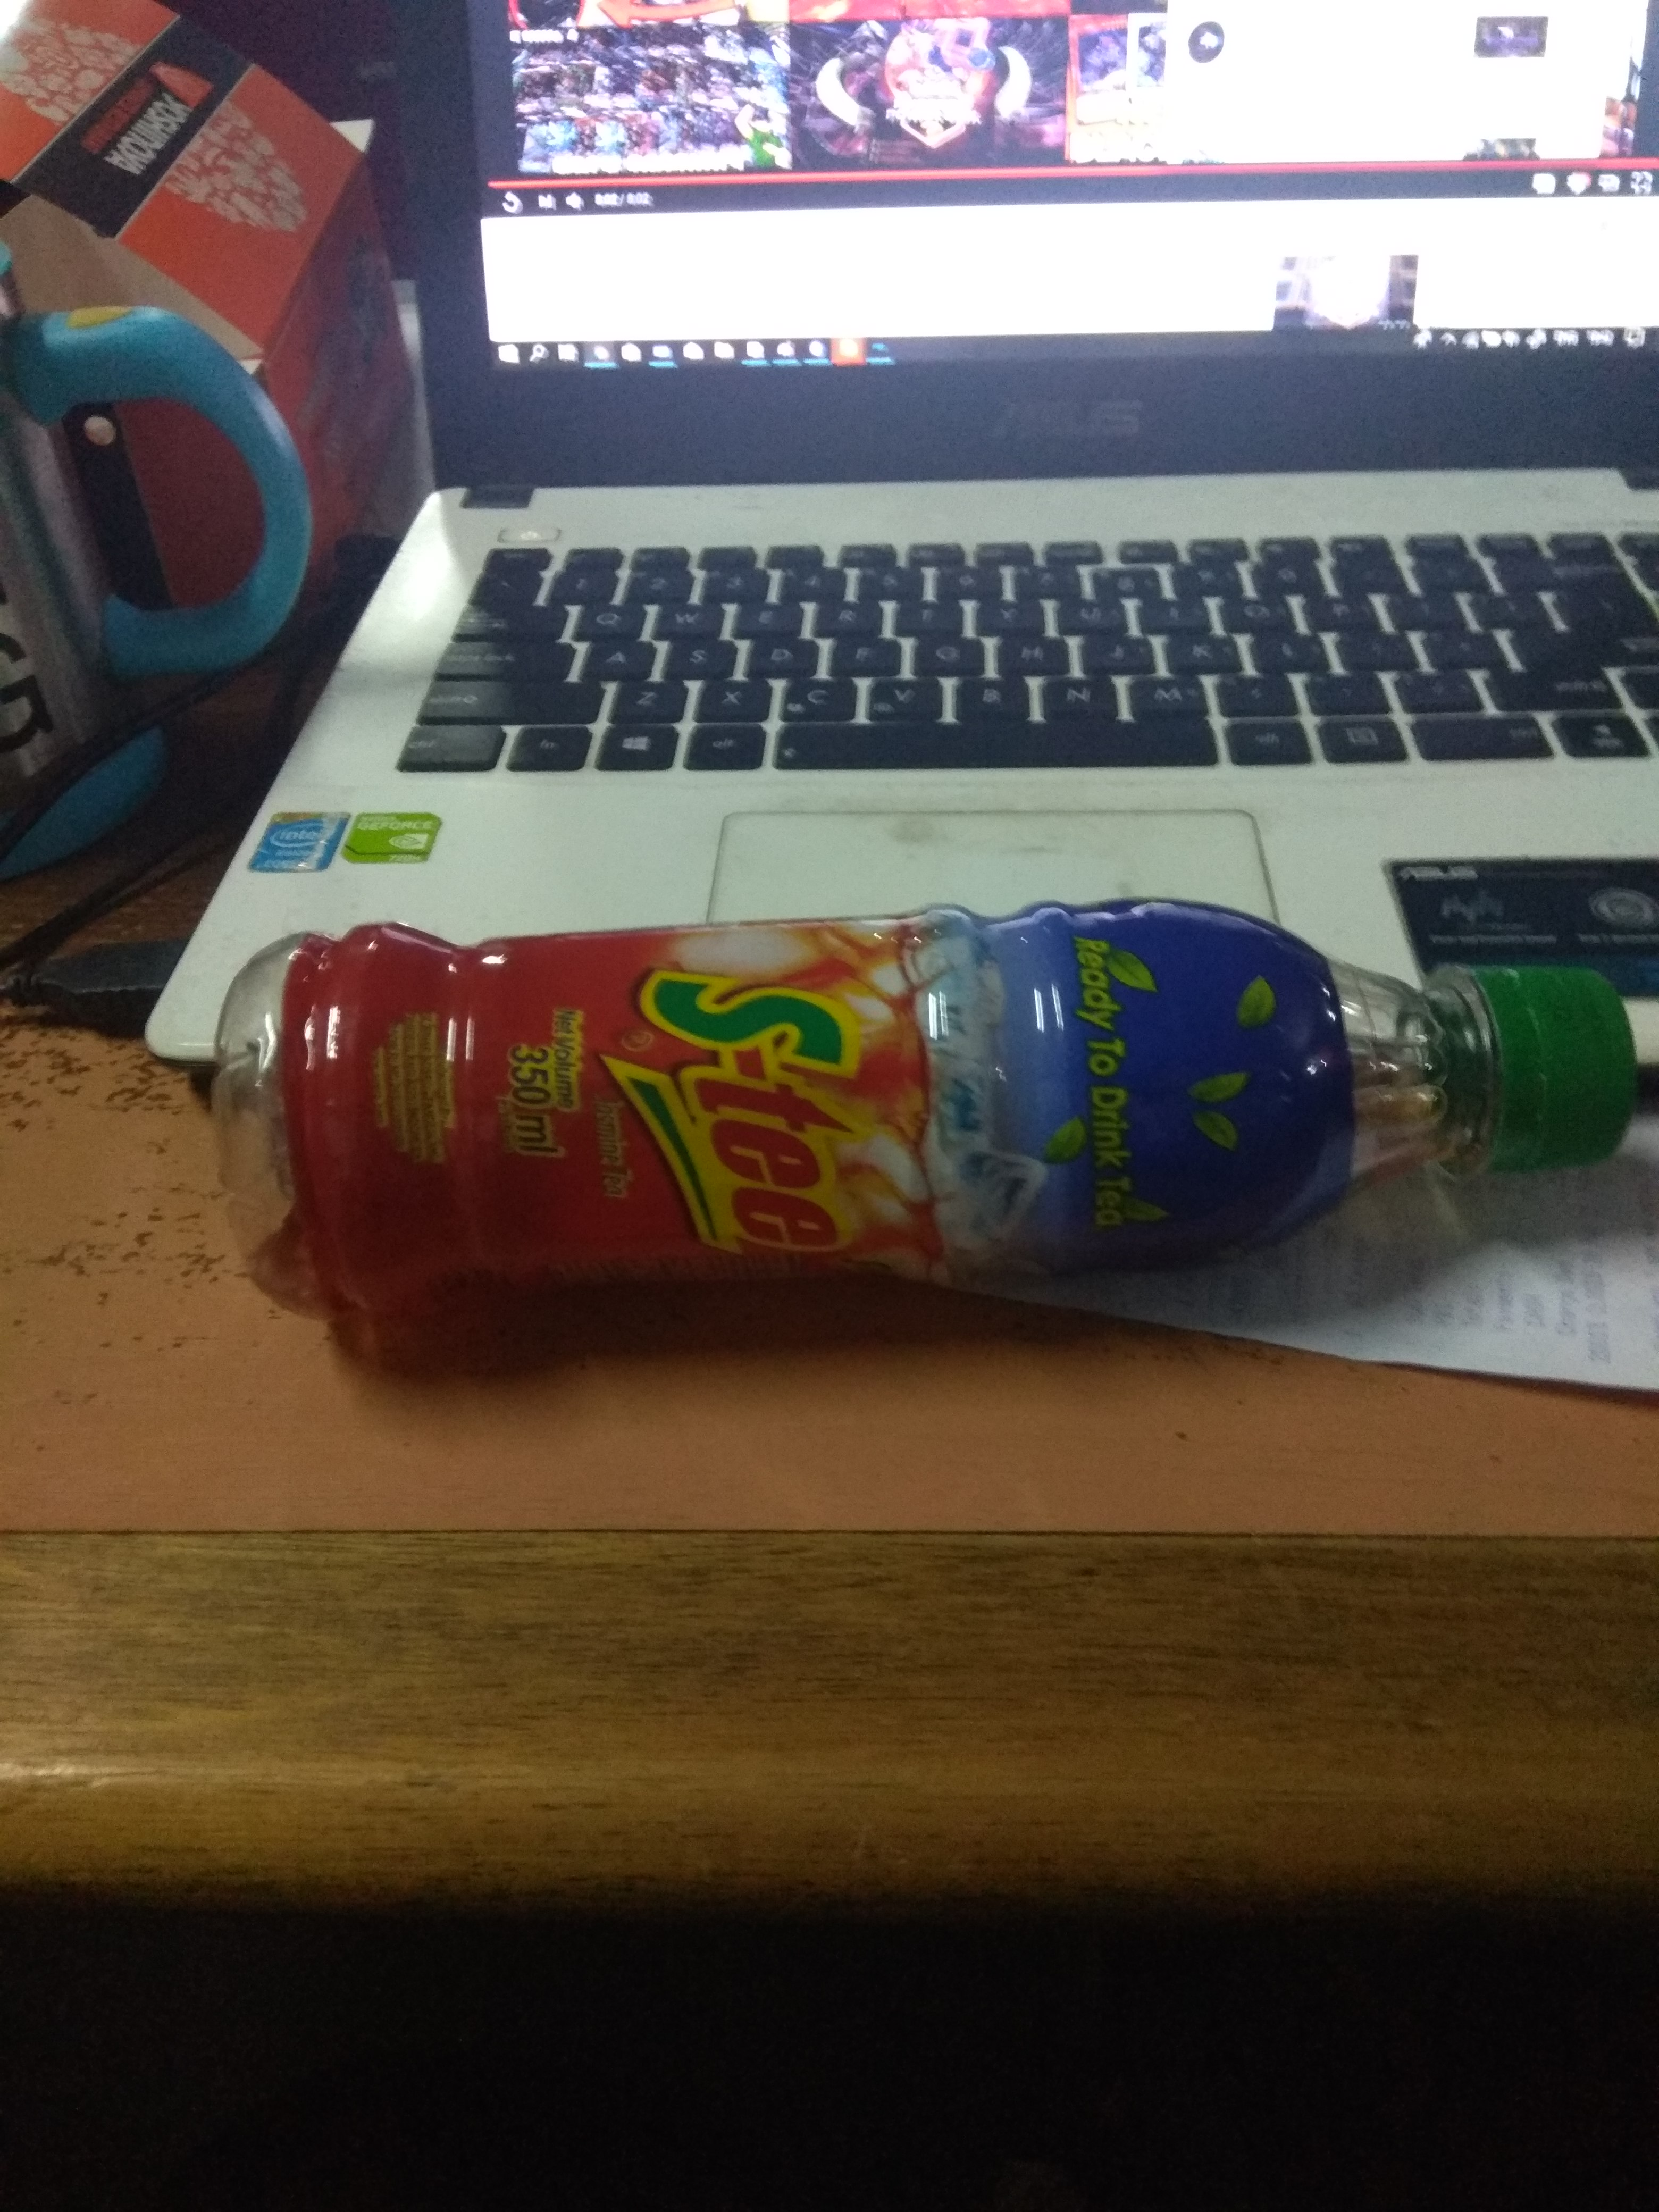botol: (213, 902, 1633, 1317), (213, 930, 1633, 1317)
